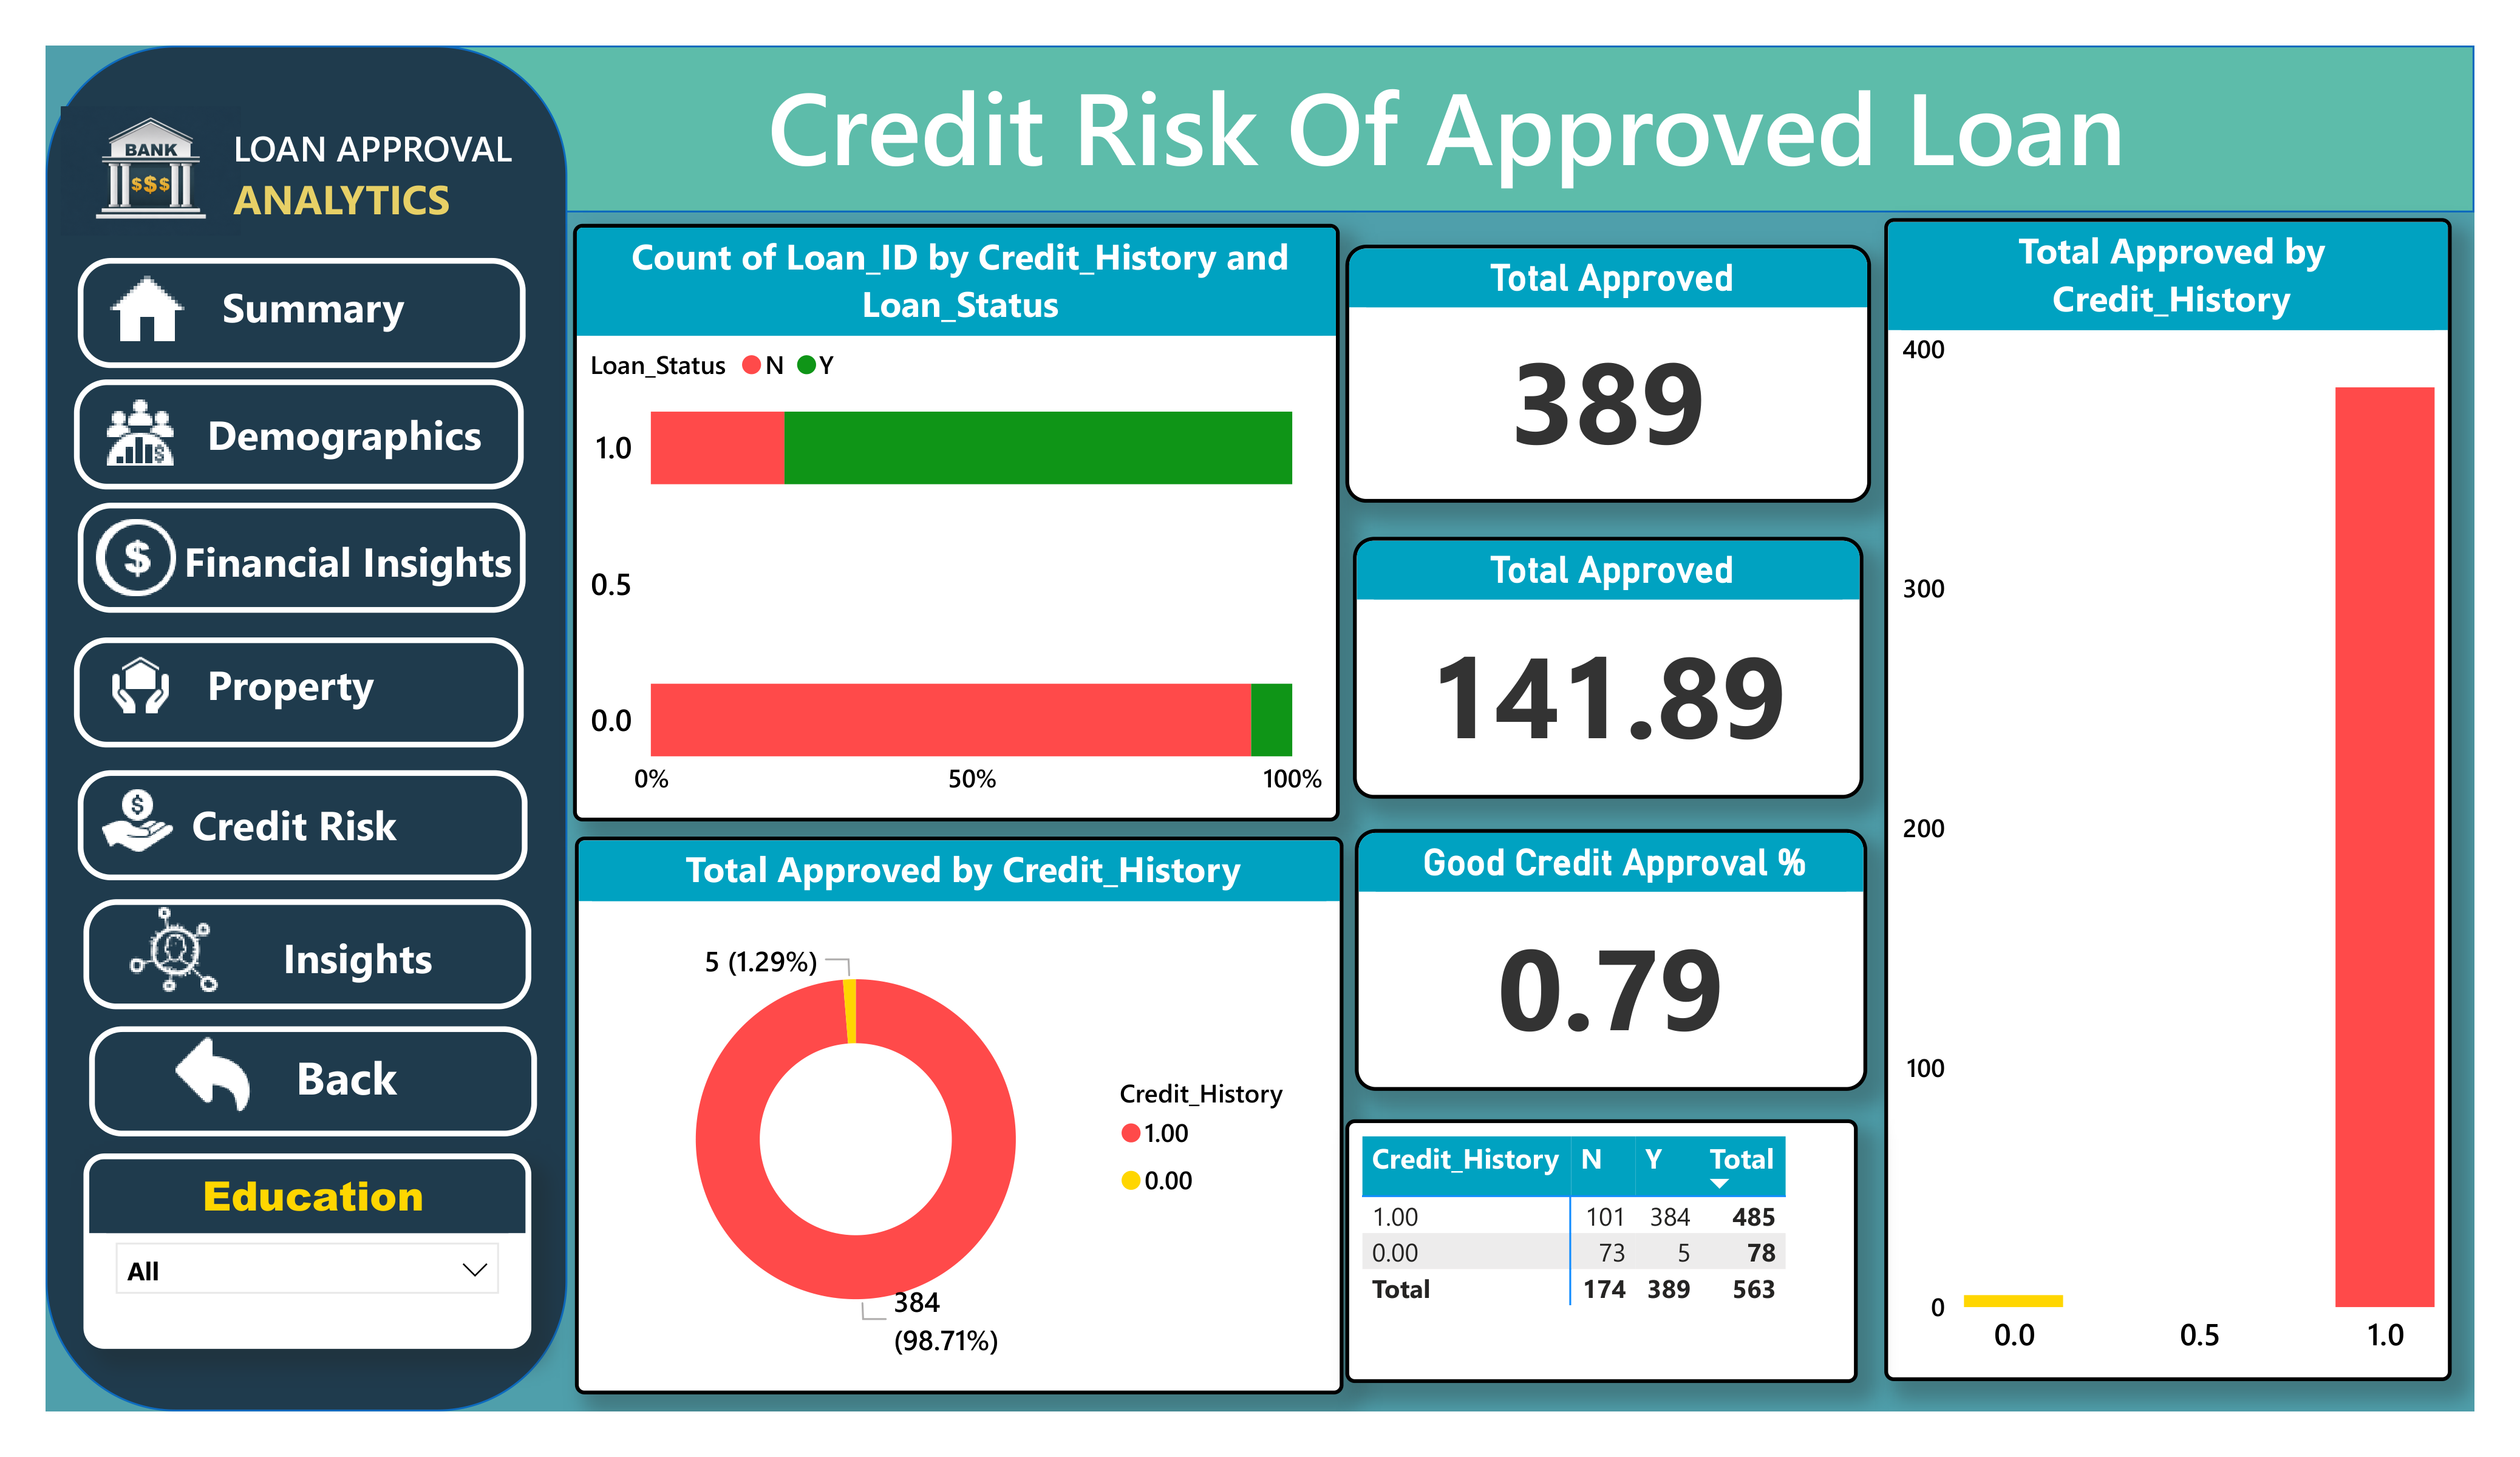

The page's visual inventory and layout, read from the dashboard file:
{"tool":"powerbi","page":{"name":"Credit Risk Analysic","canvas":[1280,720],"ordinal":4},"visuals":[{"type":"shape","box":[78.9,0,1201.1,88],"z":0},{"type":"actionButton","box":[15.2,312.4,236.6,57.6],"z":0,"group":"g1"},{"type":"textbox","box":[197.2,0,1082.8,88],"z":1000},{"type":"textbox","box":[80.4,316.9,128.9,48.5],"z":1000,"group":"g1"},{"type":"shape","box":[0,0,274.5,720.4],"z":2000},{"type":"image","box":[3,6.1,104.6,119.8],"z":3000},{"type":"textbox","box":[94,36.4,172.9,63.7],"z":4000},{"type":"actionButton","box":[16.7,112.2,236.6,57.6],"z":5000},{"type":"image","box":[27.3,110.7,53.1,57.6],"z":6000},{"type":"textbox","box":[88,118.3,130.4,45.5],"z":7000},{"type":"actionButton","box":[15.2,175.9,236.6,57.6],"z":8000},{"type":"image","box":[19.7,179,60.7,50],"z":9000},{"type":"textbox","box":[80.4,185,159.2,44],"z":10000},{"type":"actionButton","box":[16.7,241.1,236.6,57.6],"z":11000},{"type":"image","box":[19.7,241.1,56.1,57.6],"z":12000},{"type":"textbox","box":[68.2,251.8,189.6,48.5],"z":13000},{"type":"actionButton","box":[430.7,259.3,236.6,57.6],"z":14000},{"type":"slicer","title":"Education","fields":{"Values":["l_approved.Education"]},"box":[19.7,583.9,236.6,103.1],"z":15000},{"type":"actionButton","box":[19.7,450.4,236.6,57.6],"z":16000},{"type":"textbox","box":[119.8,461,116.8,40.9],"z":17000},{"type":"image","box":[34.9,445.9,65.2,62.2],"z":18000},{"type":"actionButton","box":[22.7,517.2,236.6,57.6],"z":19000},{"type":"image","box":[56.1,511.1,63.7,63.7],"z":20000},{"type":"textbox","box":[127.4,521.7,104.6,47],"z":21000},{"type":"hundredPercentStackedBarChart","fields":{"Category":["l_approved.Credit_History"],"Y":["CountNonNull(l_approved.Loan_ID)"],"Series":["l_approved.Loan_Status"]},"box":[277.5,94,404.9,315.5],"z":22000},{"type":"donutChart","fields":{"Category":["l_approved.Credit_History"],"Y":["l_approved.Total Approved"]},"box":[279.1,417.1,404.9,294.2],"z":23000},{"type":"card","title":"Total Approved","fields":{"Values":["l_approved.Total Approved"]},"box":[685.5,104.6,276,136.5],"z":24000},{"type":"card","title":"Total Approved","fields":{"Values":["l_approved.Average Loan Amount"]},"box":[688.5,259.3,270,138],"z":25000},{"type":"card","title":"Good Credit Approval %","fields":{"Values":["l_approved.Good Credit Approval %"]},"box":[690,412.5,270,138],"z":26000},{"type":"clusteredColumnChart","fields":{"Category":["l_approved.Credit_History"],"Y":["l_approved.Total Approved"]},"box":[969.1,91,298.8,612.7],"z":27000},{"type":"pivotTable","fields":{"Rows":["l_approved.Credit_History"],"Columns":["l_approved.Loan_Status"],"Values":["l_approved.Total Applications"]},"box":[685.5,565.7,270,139.5],"z":28000},{"type":"image","box":[28.8,312.4,42.5,48.5],"z":29000},{"type":"image","box":[24.3,385.2,48.5,47],"z":30000},{"type":"actionButton","box":[16.7,382.2,236.6,57.6],"z":30008,"group":"g2"},{"type":"textbox","box":[71.3,391.3,169.9,40.9],"z":30014,"group":"g2"},{"type":"group","id":"g1","title":"Group 1","box":[15.2,312.4,236.6,57.6],"z":31000},{"type":"group","id":"g2","title":"Group 2","box":[16.7,382.2,236.6,57.6],"z":32000}]}

Visuals, with their boxes on the page's 1280x720 design canvas (x1, y1, x2, y2). These are canvas units, not pixel positions in the 2520x1457 screenshot, which may show the page scaled, cropped or inside an application window:
shape: bbox(79, 0, 1280, 88)
actionButton: bbox(15, 312, 252, 370)
textbox: bbox(197, 0, 1280, 88)
textbox: bbox(80, 317, 209, 365)
shape: bbox(0, 0, 274, 720)
image: bbox(3, 6, 108, 126)
textbox: bbox(94, 36, 267, 100)
actionButton: bbox(17, 112, 253, 170)
image: bbox(27, 111, 80, 168)
textbox: bbox(88, 118, 218, 164)
actionButton: bbox(15, 176, 252, 234)
image: bbox(20, 179, 80, 229)
textbox: bbox(80, 185, 240, 229)
actionButton: bbox(17, 241, 253, 299)
image: bbox(20, 241, 76, 299)
textbox: bbox(68, 252, 258, 300)
actionButton: bbox(431, 259, 667, 317)
"Education" slicer: bbox(20, 584, 256, 687)
actionButton: bbox(20, 450, 256, 508)
textbox: bbox(120, 461, 237, 502)
image: bbox(35, 446, 100, 508)
actionButton: bbox(23, 517, 259, 575)
image: bbox(56, 511, 120, 575)
textbox: bbox(127, 522, 232, 569)
hundredPercentStackedBarChart - l_approved.Credit_History x CountNonNull(l_approved.Loan_ID): bbox(278, 94, 682, 410)
donutChart - l_approved.Credit_History x l_approved.Total Approved: bbox(279, 417, 684, 711)
"Total Approved" card: bbox(686, 105, 962, 241)
"Total Approved" card: bbox(688, 259, 958, 397)
"Good Credit Approval %" card: bbox(690, 412, 960, 550)
clusteredColumnChart - l_approved.Credit_History x l_approved.Total Approved: bbox(969, 91, 1268, 704)
pivotTable - l_approved.Credit_History x l_approved.Loan_Status: bbox(686, 566, 956, 705)
image: bbox(29, 312, 71, 361)
image: bbox(24, 385, 73, 432)
actionButton: bbox(17, 382, 253, 440)
textbox: bbox(71, 391, 241, 432)
"Group 1" group: bbox(15, 312, 252, 370)
"Group 2" group: bbox(17, 382, 253, 440)
